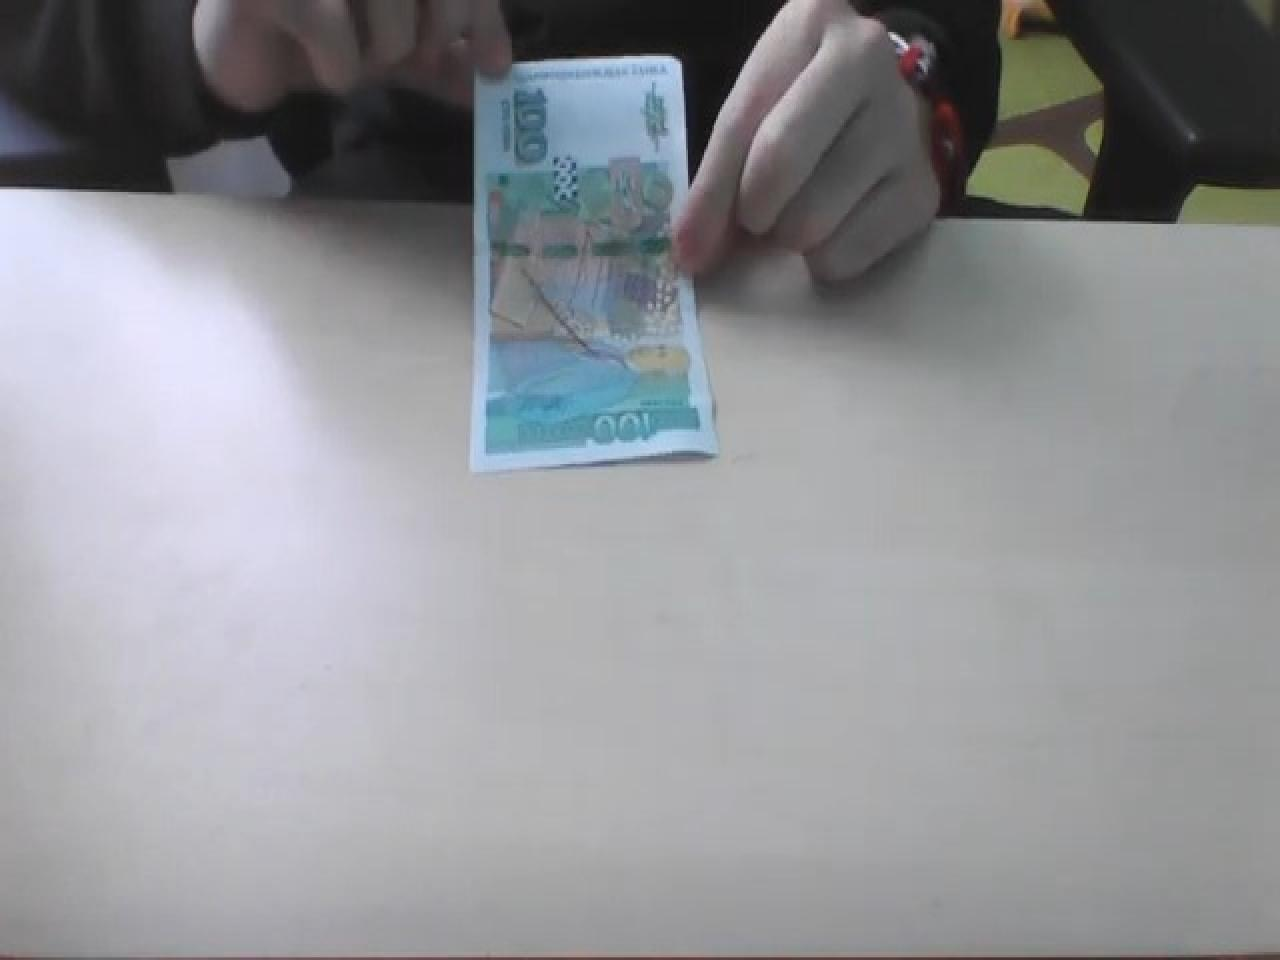100leva: (468, 50, 718, 472), (882, 21, 968, 211)
